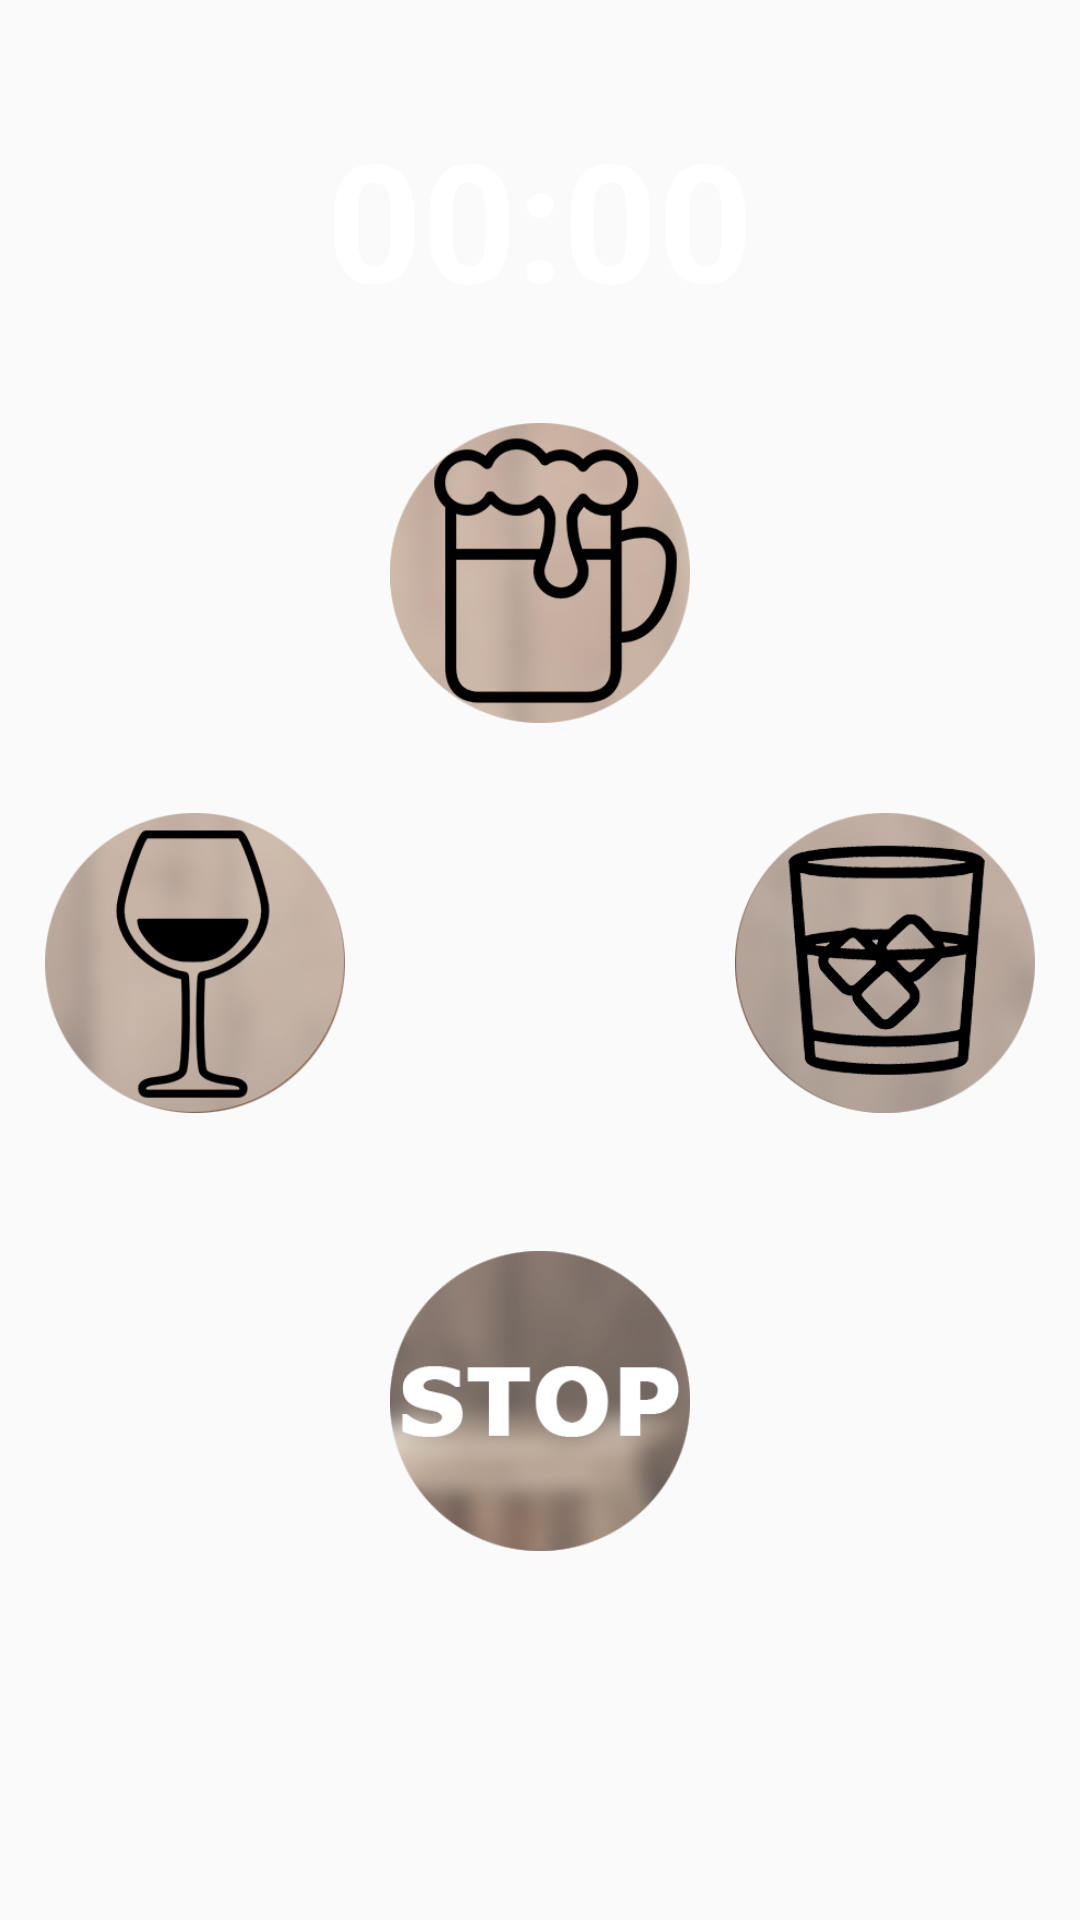

Point at icon controls on the screen. Image size 1080x1920, points as (x=x, y=y).
bere: (x=540, y=573)
vin: (x=195, y=963)
vodka: (x=885, y=963)
